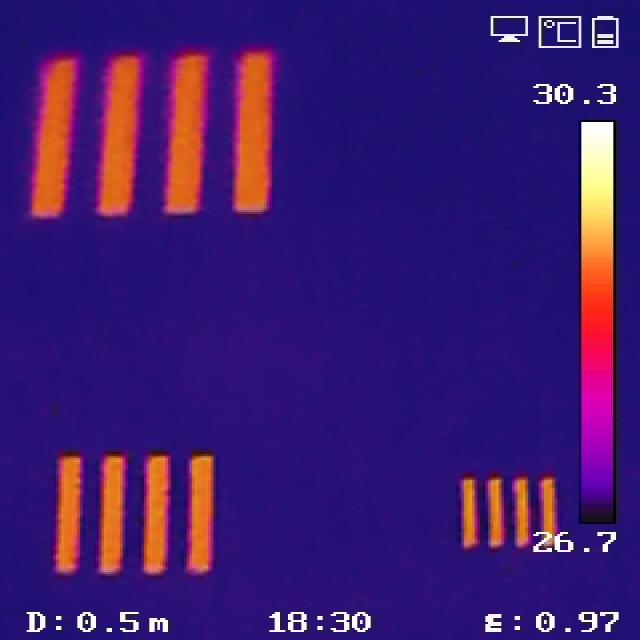Distinguishable 4-bar target: (20, 53, 283, 225), (48, 450, 223, 581), (454, 477, 570, 552)
